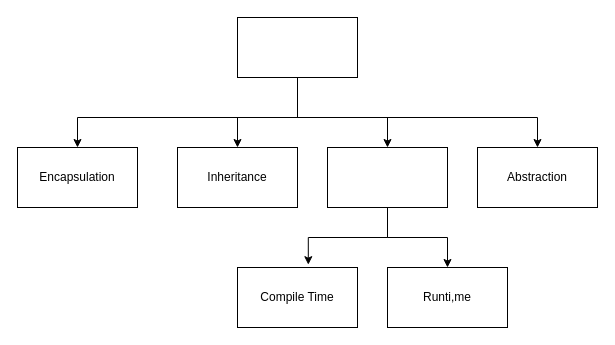
Some shapes in this 615 by 345 pixel diagram are drawn without their labels. The shapes that lost their labels are listed below. From the top down, each one's centre as x and y in pixels, then its label:
At point 297,47: "OOP".
At point 387,177: "Polymophic".
